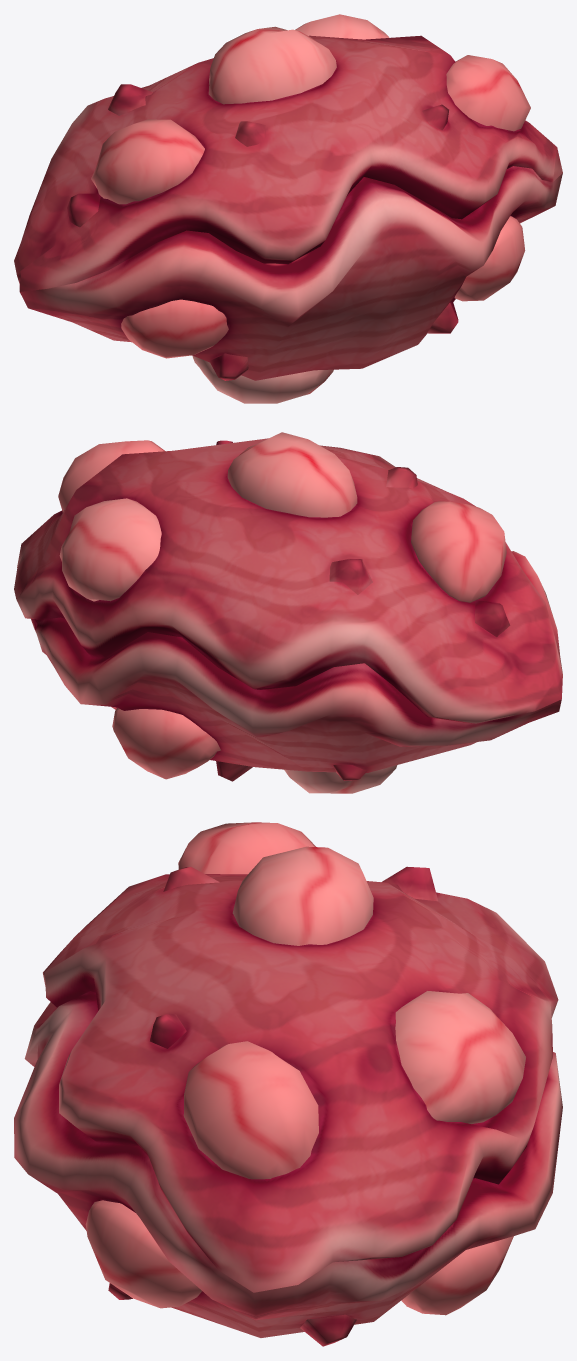
Rendered from hvs_farmables_slimyclam.fbx.
3 renders of one model, top to bottom at view 1: azimuth 30°, elevation 25°; view 2: azimuth 150°, elevation 25°; view 3: azimuth 270°, elevation 25°, orthographic. The views are drawn at different scales.
Visible parts, largest first — view 1: hvs_farmables_slimyclam; view 2: hvs_farmables_slimyclam; view 3: hvs_farmables_slimyclam.
Part boxes in pixels (x1,y1,x2,y2): hvs_farmables_slimyclam: [14, 14, 562, 403]; hvs_farmables_slimyclam: [14, 432, 562, 793]; hvs_farmables_slimyclam: [14, 822, 562, 1346].
Bounding box in the file's own units: 9.55 × 5.88 × 6.37.
